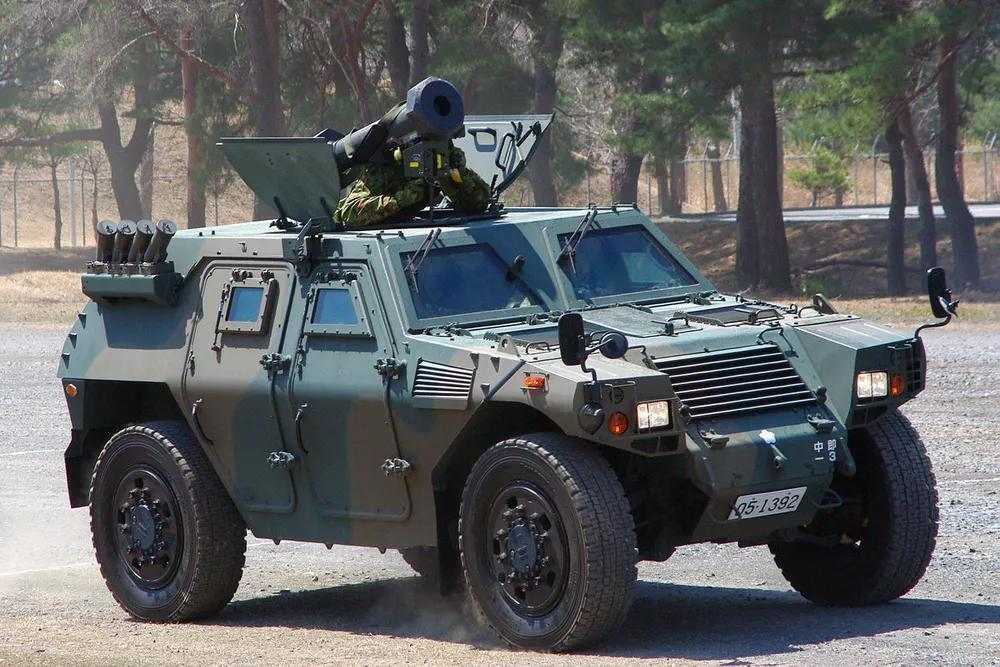MIL_IFV: (61, 77, 942, 656)
